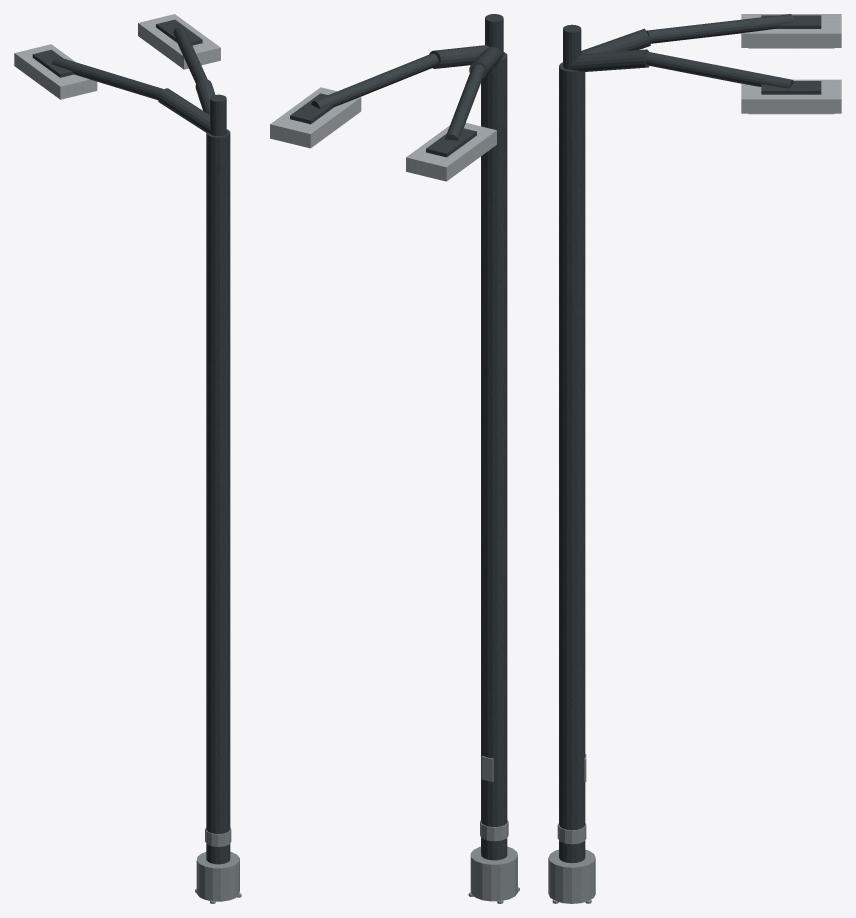
The picture shows the model from 3 angles, left to right: view 1: azimuth 30°, elevation 25°; view 2: azimuth 150°, elevation 25°; view 3: azimuth 270°, elevation 25°; orthographic projection. The views are drawn at different scales.
Visible parts, largest first — view 1: VIS_mast, VIS_left_light_shell, VIS_right_light_shell, VIS_anchor_plinth, VIS_double_arm_left_outer, VIS_double_arm_left_inner, VIS_double_arm_right_outer, VIS_mast_cap, VIS_left_light_cooling_rib; view 2: VIS_mast, VIS_left_light_shell, VIS_right_light_shell, VIS_anchor_plinth, VIS_double_arm_right_outer, VIS_double_arm_left_outer, VIS_double_arm_right_inner, VIS_left_light_cooling_rib, VIS_mast_cap, VIS_right_light_cooling_rib; view 3: VIS_mast, VIS_right_light_shell, VIS_left_light_shell, VIS_anchor_plinth, VIS_double_arm_left_outer, VIS_double_arm_right_outer, VIS_double_arm_right_inner, VIS_double_arm_left_inner, VIS_mast_cap, VIS_right_light_cooling_rib.
Boxes of the visible parts, x1,y1,x2,y2 form: VIS_mast: (206, 129, 230, 864); VIS_left_light_shell: (14, 44, 97, 99); VIS_right_light_shell: (138, 14, 220, 69); VIS_anchor_plinth: (196, 851, 239, 901); VIS_double_arm_left_outer: (52, 56, 163, 99); VIS_double_arm_left_inner: (158, 88, 212, 134); VIS_double_arm_right_outer: (173, 26, 207, 83); VIS_mast_cap: (210, 94, 226, 136); VIS_left_light_cooling_rib: (32, 49, 73, 77); VIS_mast: (481, 52, 507, 860); VIS_left_light_shell: (406, 122, 496, 181); VIS_right_light_shell: (270, 87, 361, 148); VIS_anchor_plinth: (470, 846, 517, 901); VIS_double_arm_right_outer: (311, 53, 438, 108); VIS_double_arm_left_outer: (445, 64, 484, 140); VIS_double_arm_right_inner: (429, 45, 488, 68); VIS_left_light_cooling_rib: (426, 128, 476, 157); VIS_mast_cap: (485, 14, 503, 57); VIS_right_light_cooling_rib: (290, 93, 334, 124); VIS_mast: (559, 62, 585, 863); VIS_right_light_shell: (741, 79, 841, 113); VIS_left_light_shell: (741, 14, 841, 47); VIS_anchor_plinth: (548, 849, 595, 903); VIS_double_arm_left_outer: (646, 14, 793, 43); VIS_double_arm_right_outer: (645, 52, 793, 88); VIS_double_arm_right_inner: (569, 49, 649, 72); VIS_double_arm_left_inner: (581, 28, 650, 53); VIS_mast_cap: (563, 24, 581, 69); VIS_right_light_cooling_rib: (761, 81, 821, 94).
Bounding box in the file's own units: 1.61 × 7.64 × 2.34.
Materials: 5 (5 with a texture image).
